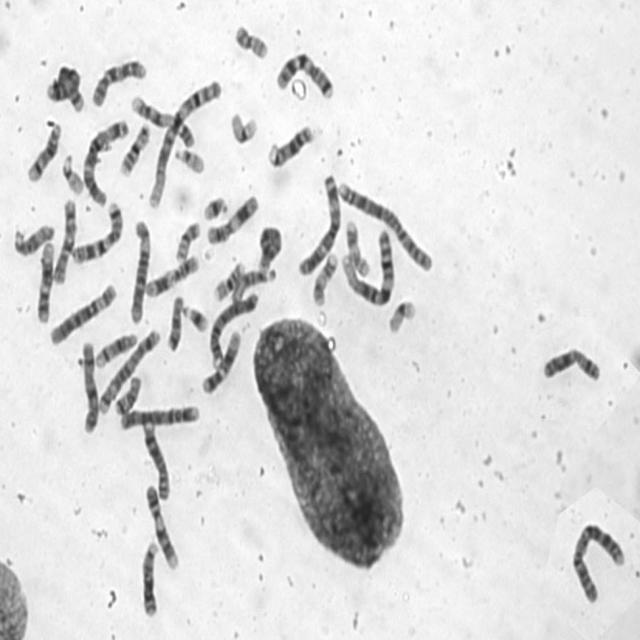A1: (149, 80, 221, 208), (341, 227, 395, 306)
A2: (337, 183, 433, 271), (571, 523, 625, 603)
A3: (298, 173, 341, 276), (83, 119, 129, 206)
B4: (209, 292, 259, 369), (120, 404, 200, 430)
B5: (98, 328, 160, 414), (46, 64, 84, 113)
C10: (92, 59, 147, 107), (53, 198, 77, 285)
C11: (207, 195, 259, 245), (144, 255, 200, 298)
C12: (200, 330, 240, 394), (37, 242, 54, 323)
C6: (50, 284, 118, 346), (131, 218, 151, 324)
C7: (72, 202, 123, 264), (276, 53, 334, 99)
C8: (142, 423, 170, 500), (258, 224, 283, 270)
C9: (130, 94, 196, 149), (146, 485, 178, 569)
D13: (268, 125, 314, 168), (142, 542, 161, 616)
D14: (28, 123, 62, 182), (95, 332, 138, 367)
D15: (231, 268, 277, 303), (13, 224, 55, 256)
E16: (119, 122, 151, 176), (213, 261, 245, 301)
E17: (346, 218, 370, 277), (312, 252, 338, 306)
E18: (115, 376, 142, 414), (166, 295, 184, 351)
F19: (388, 300, 416, 333), (230, 112, 257, 144)
F20: (235, 26, 268, 58), (176, 221, 201, 263)
G21: (173, 146, 204, 174), (182, 304, 209, 332)
G22: (62, 154, 83, 196), (204, 196, 227, 221)
X: (543, 348, 602, 382), (82, 340, 98, 434)
